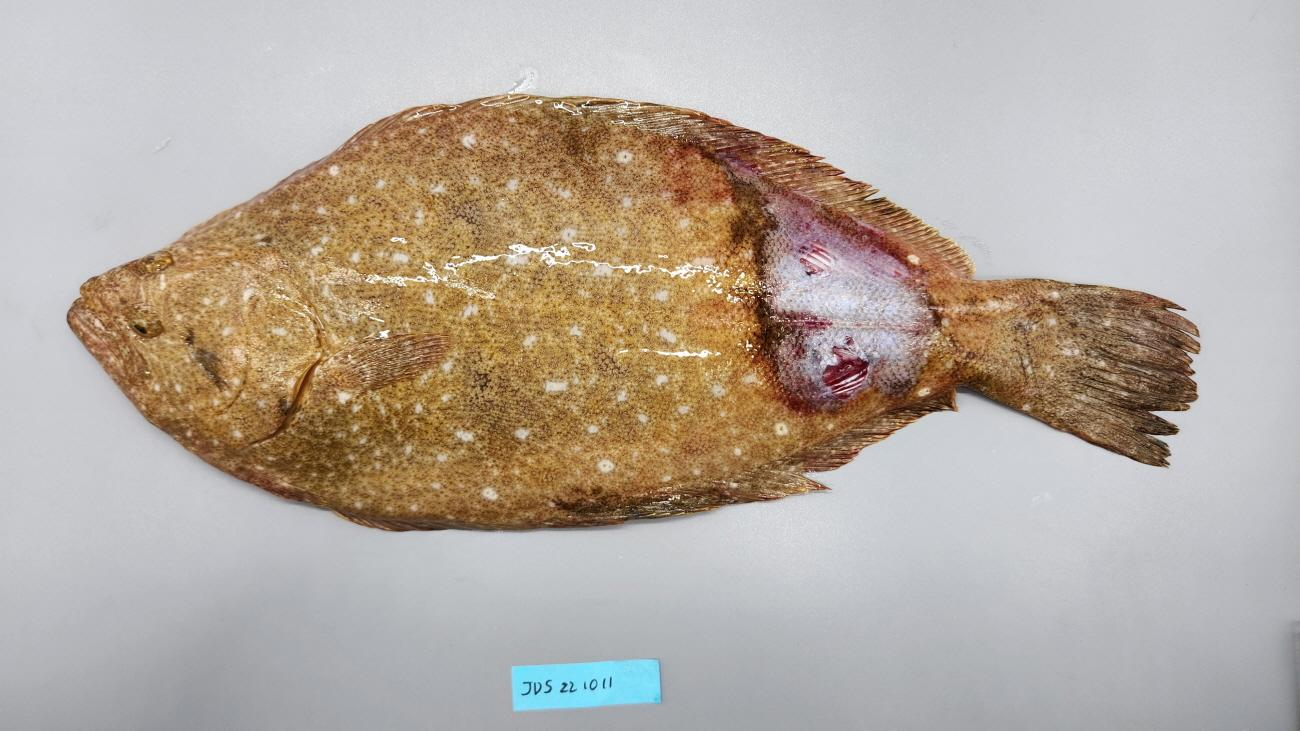VIDYU: (700, 158, 943, 419)
VIFAH: (763, 380, 943, 491)
VIFCH: (1059, 291, 1195, 465)
VIOUY: (66, 82, 1203, 540)
